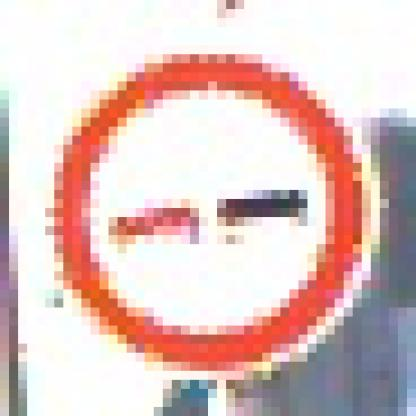No Overtaking: (46, 46, 372, 372)
